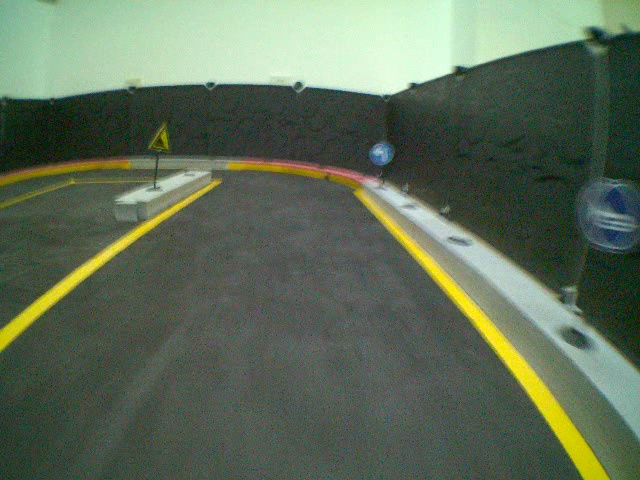fast: (147, 121, 172, 152)
horn: (577, 180, 640, 249)
turn: (368, 141, 394, 165)
